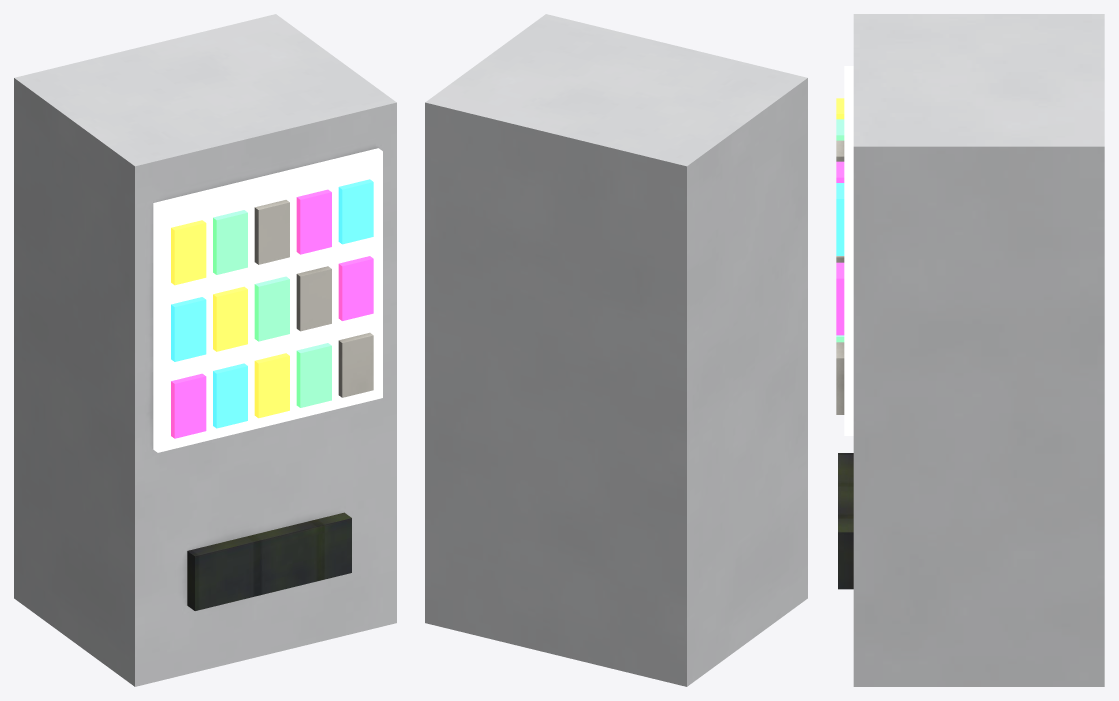
File: automat_tex.glb
The picture shows the model from 3 angles, left to right: view 1: azimuth 30°, elevation 25°; view 2: azimuth 150°, elevation 25°; view 3: azimuth 270°, elevation 25°; orthographic projection. The views are drawn at different scales.
Parts seen in each view (by area): view 1: automat; view 2: automat; view 3: automat.
Part boxes in pixels (box(x1,y1,x2,y2)): automat: box(14, 14, 396, 686); automat: box(425, 14, 807, 686); automat: box(836, 14, 1104, 686).
Size of the model in its own units: 1 by 1.9 by 0.855.
8 materials, 3 textured.
